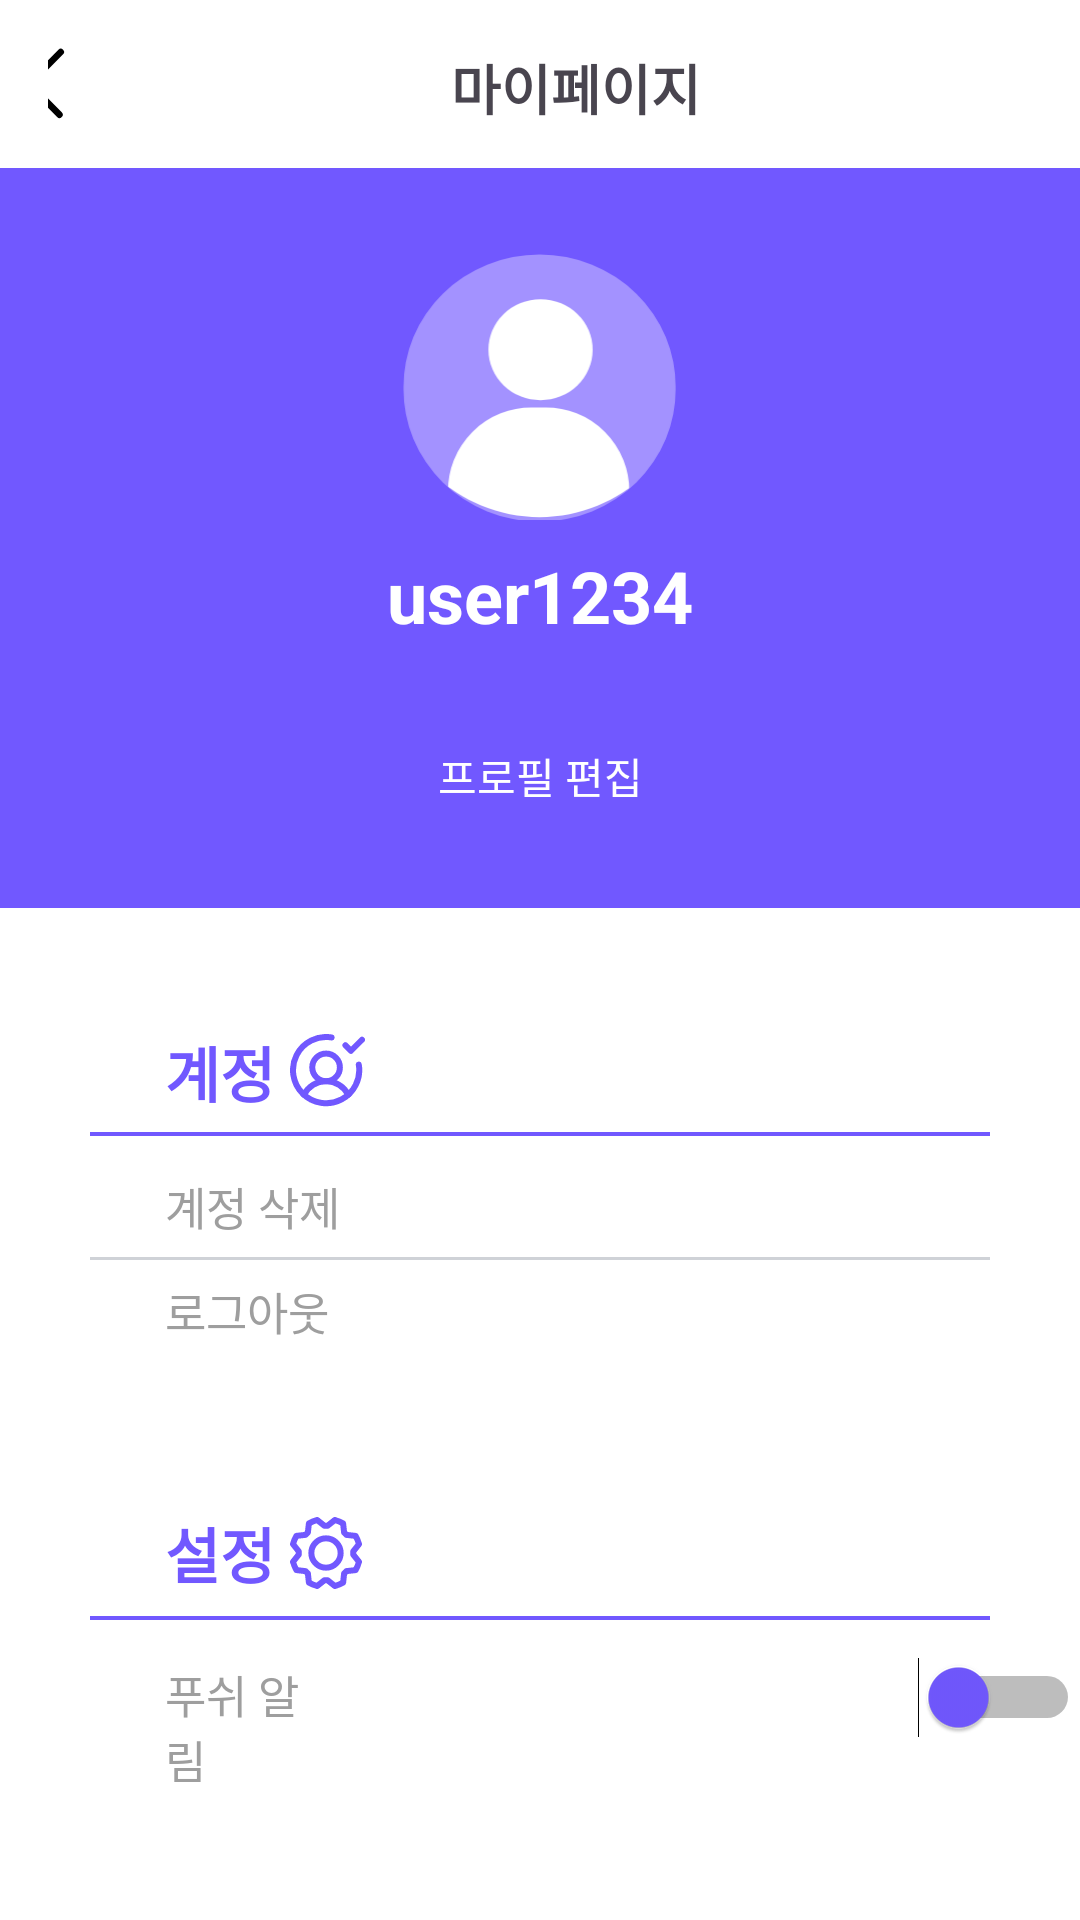

Named icons in this screenshot (1080 x 1920) and their bounding boxes, (x1, y1, x2, y2):
mypageprofile: (403, 254, 676, 520)
